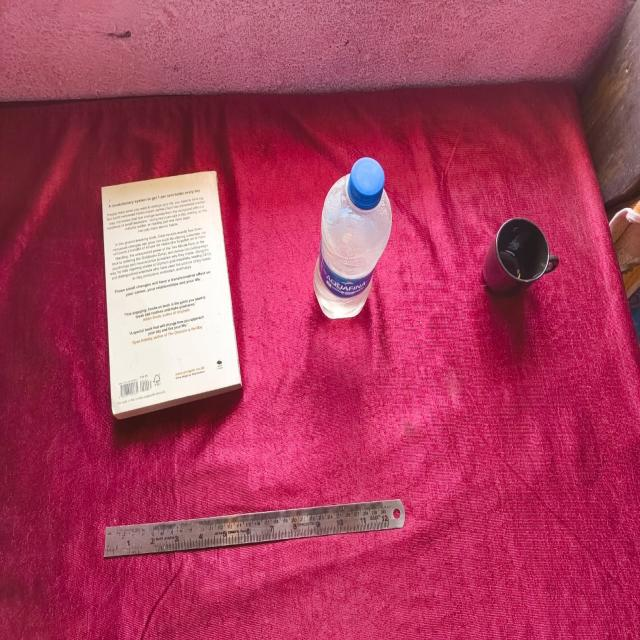Book: (98, 168, 244, 420)
Bottle: (313, 154, 396, 320)
Cup: (484, 214, 563, 296)
scale: (102, 496, 422, 568)
